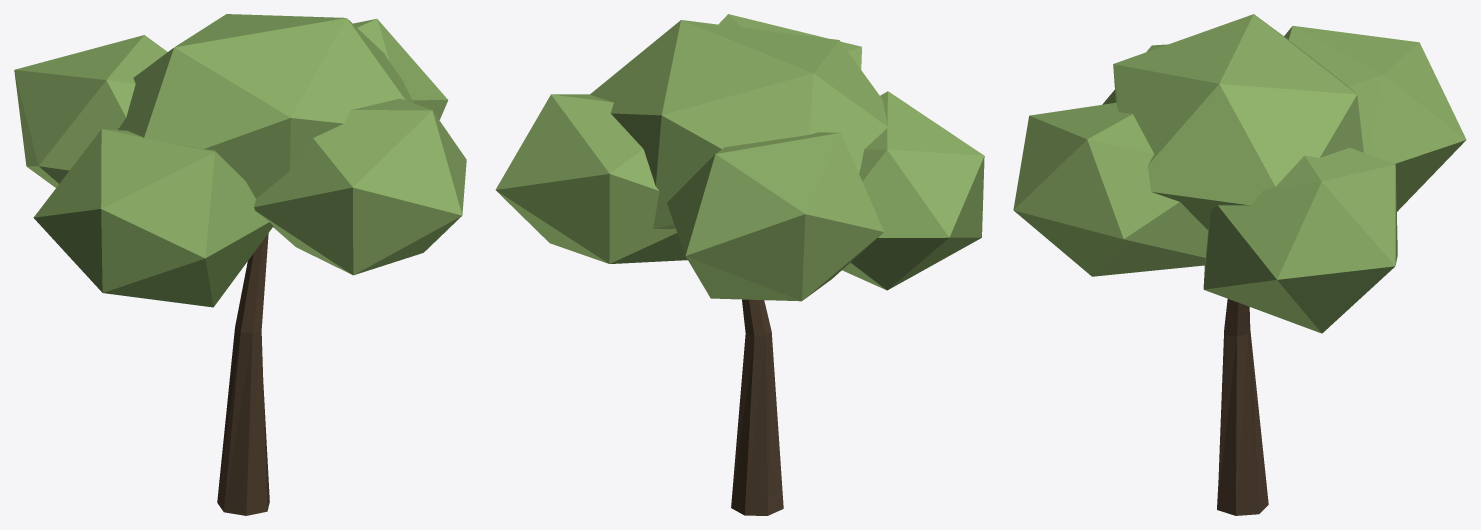
Rendered from RoadsideTreeLow.obj.
The picture shows the model from 3 angles, left to right: view 1: azimuth 30°, elevation 25°; view 2: azimuth 150°, elevation 25°; view 3: azimuth 270°, elevation 25°; orthographic projection. The views are drawn at different scales.
Visible parts, largest first — view 1: RoadsideTreeLow; view 2: RoadsideTreeLow; view 3: RoadsideTreeLow.
Part boxes in pixels (x1=…): RoadsideTreeLow: x1=14, y1=14, x2=466, y2=515; RoadsideTreeLow: x1=495, y1=14, x2=984, y2=515; RoadsideTreeLow: x1=1013, y1=14, x2=1466, y2=515.
Bounding box in the file's own units: 6.27 × 6.65 × 5.87.
